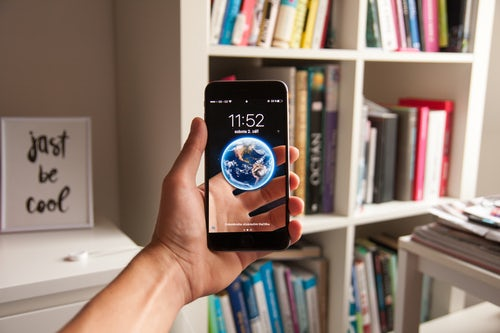phone: (202, 78, 293, 256)
